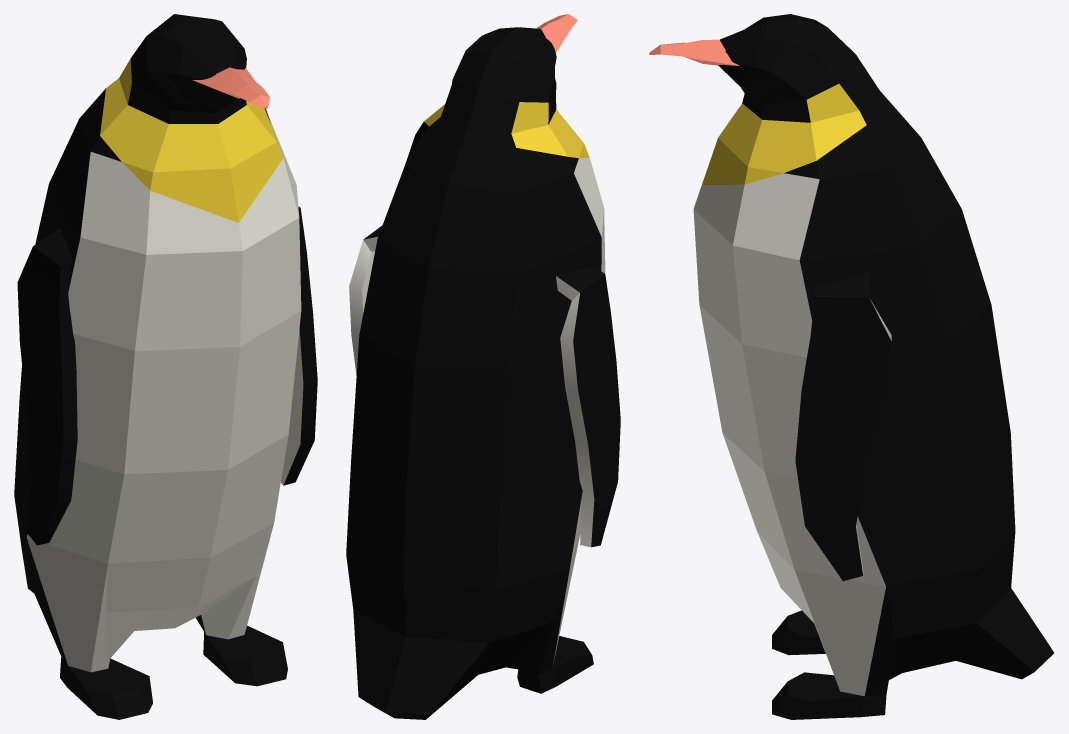
File: f242d6d3-67cd-41b4-ae93-4cfd0acf8b5e.glb
3 renders of one model, left to right at view 1: azimuth 30°, elevation 25°; view 2: azimuth 150°, elevation 25°; view 3: azimuth 270°, elevation 25°, orthographic. The views are drawn at different scales.
Parts seen in each view (by area): view 1: Geo_Penguin; view 2: Geo_Penguin; view 3: Geo_Penguin.
Boxes of the visible parts, <box> form: Geo_Penguin: <box>14,14,317,719</box>; Geo_Penguin: <box>346,14,620,719</box>; Geo_Penguin: <box>649,14,1053,719</box>.
Size of the model in its own units: 70.7 by 176 by 98.47.
Materials: 1 (1 with a texture image).
